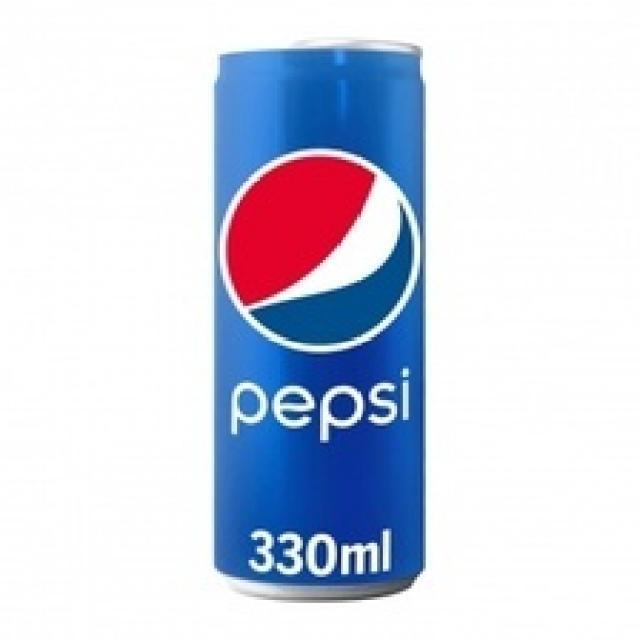recyclable: (214, 41, 427, 604)
